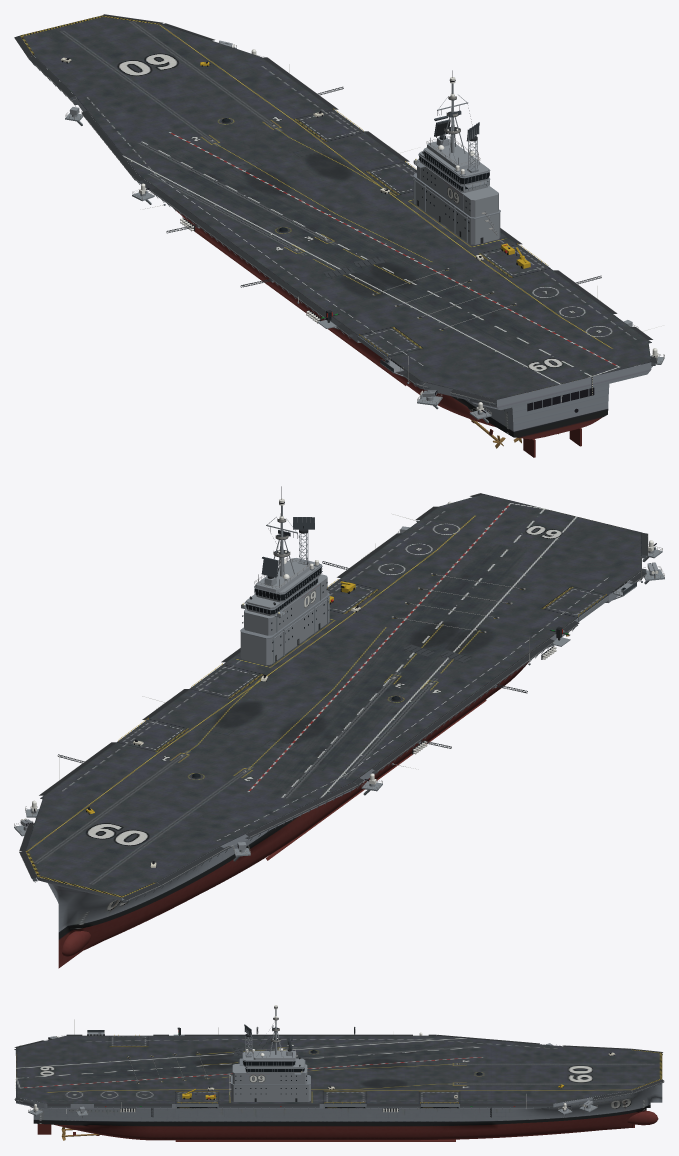
Rendered from cvn.glb.
The picture shows the model from 3 angles, top to bottom: view 1: azimuth 30°, elevation 25°; view 2: azimuth 150°, elevation 25°; view 3: azimuth 270°, elevation 25°; orthographic projection. The views are drawn at different scales.
Parts seen in each view (by area): view 1: lod0mesh; view 2: lod0mesh; view 3: lod0mesh.
Boxes of the visible parts, left/top/right/bottom form: lod0mesh: left=14, top=14, right=664, bottom=457; lod0mesh: left=14, top=486, right=664, bottom=968; lod0mesh: left=14, top=1005, right=664, bottom=1141.
Size of what is drawn, in the model's own units: 109 by 88.12 by 334.
Materials: 3 (2 with a texture image).
